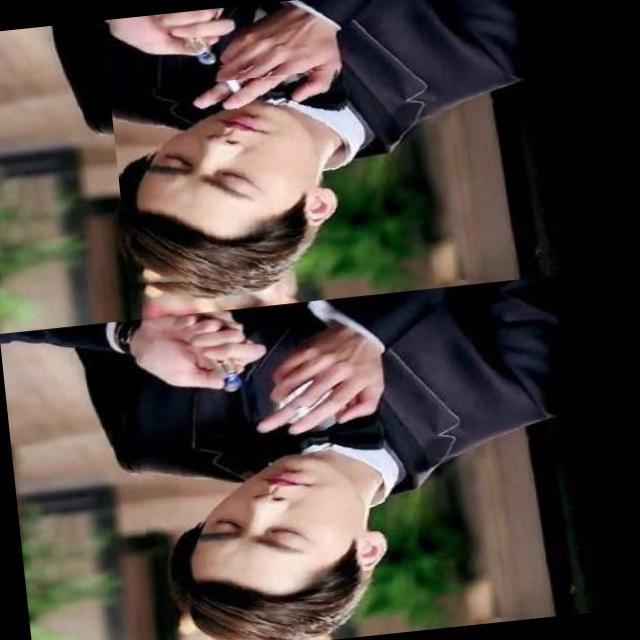cigarette: (276, 388, 348, 438), (208, 61, 252, 120)
